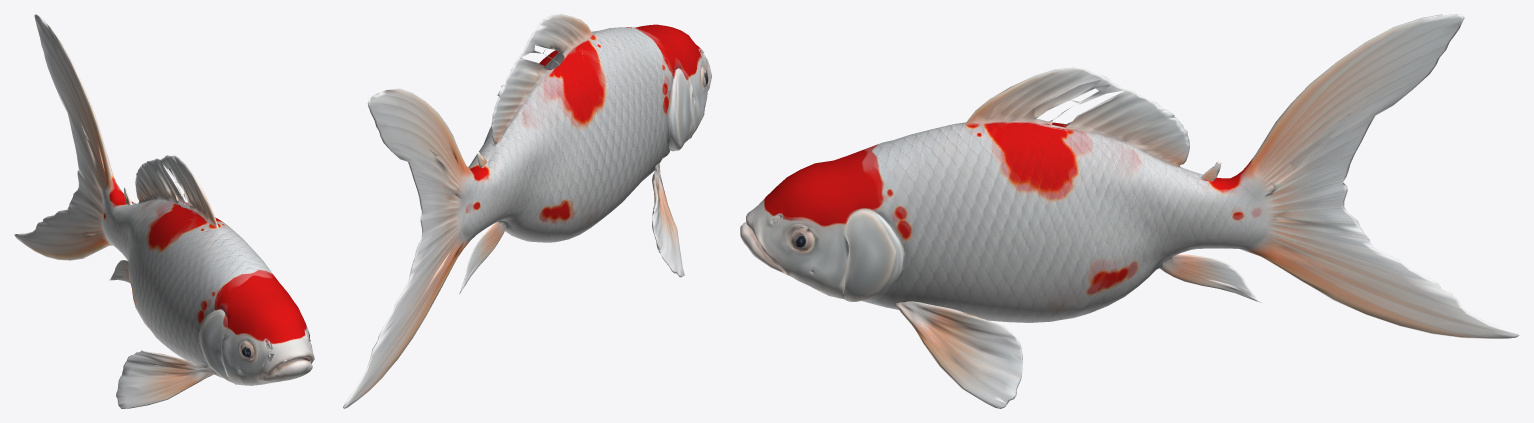
Rendered from koi.glb.
3 views of the same model, side by side, from view 1: azimuth 30°, elevation 25°; view 2: azimuth 150°, elevation 25°; view 3: azimuth 270°, elevation 25° (orthographic). The views are drawn at different scales.
Bounding box in the file's own units: 0.332 × 0.459 × 0.958.
Materials: 1 (1 with a texture image).
